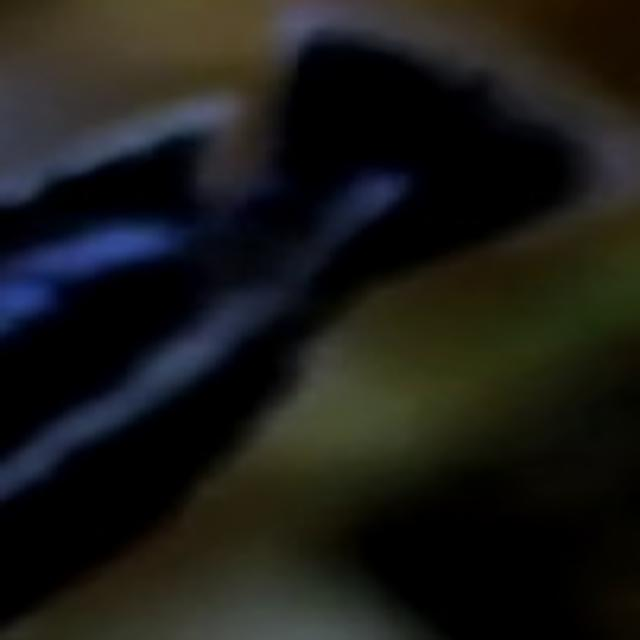fish: (6, 3, 640, 640)
